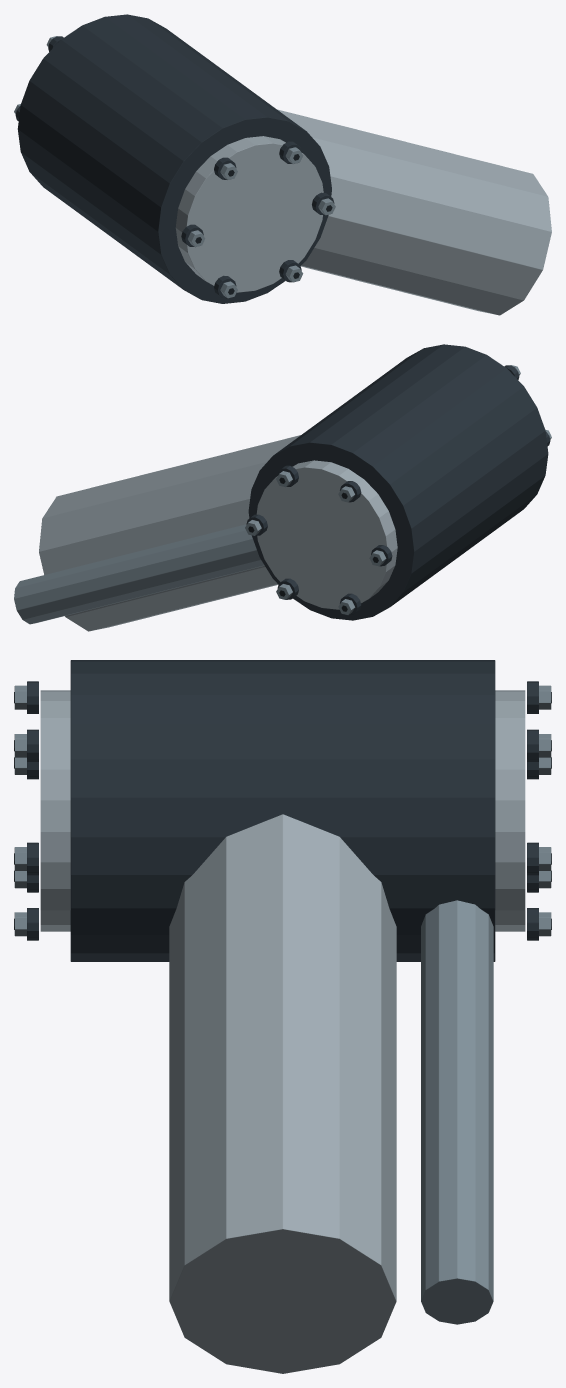
File: SM_Lab_RobotArm__Link_2.fbx
The picture shows the model from 3 angles, top to bottom: view 1: azimuth 30°, elevation 25°; view 2: azimuth 150°, elevation 25°; view 3: azimuth 270°, elevation 25°; orthographic projection. The views are drawn at different scales.
Parts seen in each view (by area): view 1: SM_Lab_RobotArm__Link_2; view 2: SM_Lab_RobotArm__Link_2; view 3: SM_Lab_RobotArm__Link_2.
Part boxes in pixels (<box>): SM_Lab_RobotArm__Link_2: <box>14,14,551,315</box>; SM_Lab_RobotArm__Link_2: <box>14,344,551,631</box>; SM_Lab_RobotArm__Link_2: <box>14,660,551,1373</box>.
Bounding box in the file's own units: 51.2 × 35.5 × 34.77.
